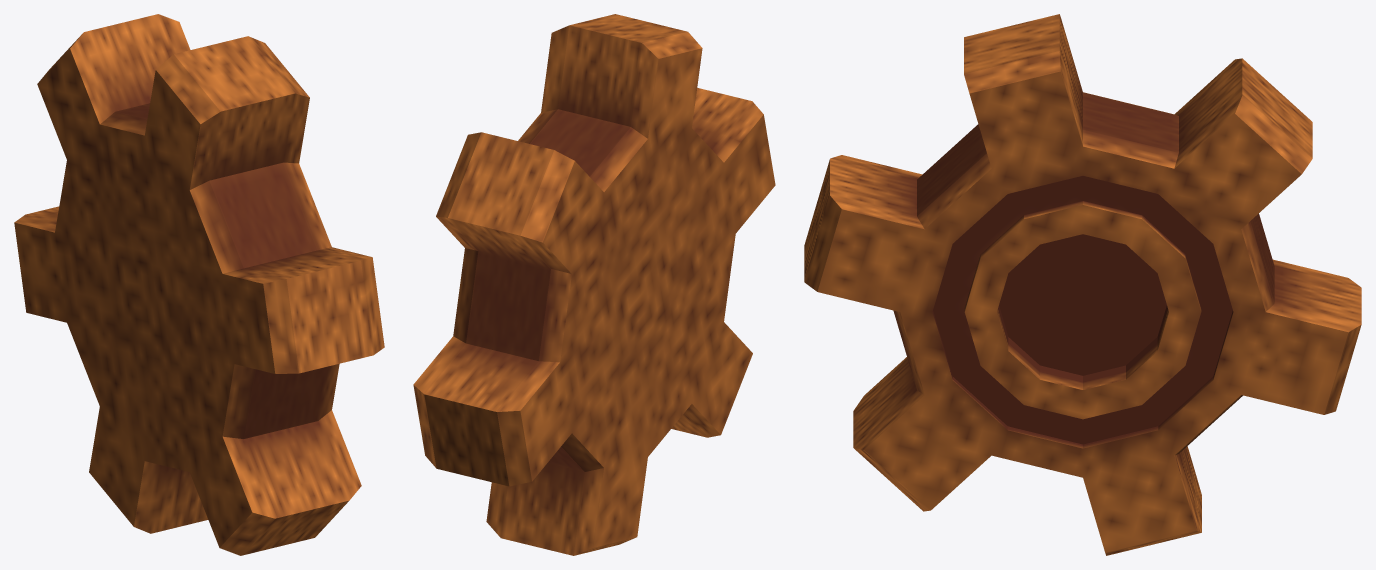
3 renders of one model, left to right at view 1: azimuth 30°, elevation 25°; view 2: azimuth 150°, elevation 25°; view 3: azimuth 270°, elevation 25°, orthographic. The views are drawn at different scales.
Visible parts, largest first — view 1: Cylinder.427; view 2: Cylinder.427; view 3: Cylinder.427.
Part boxes in pixels (box(x1,y1,x2,y2)): Cylinder.427: box(14, 14, 384, 555); Cylinder.427: box(413, 14, 775, 555); Cylinder.427: box(804, 14, 1361, 555).
Bounding box in the file's own units: 0.148 × 0.6413 × 0.6413.
Materials: 1 (1 with a texture image).
